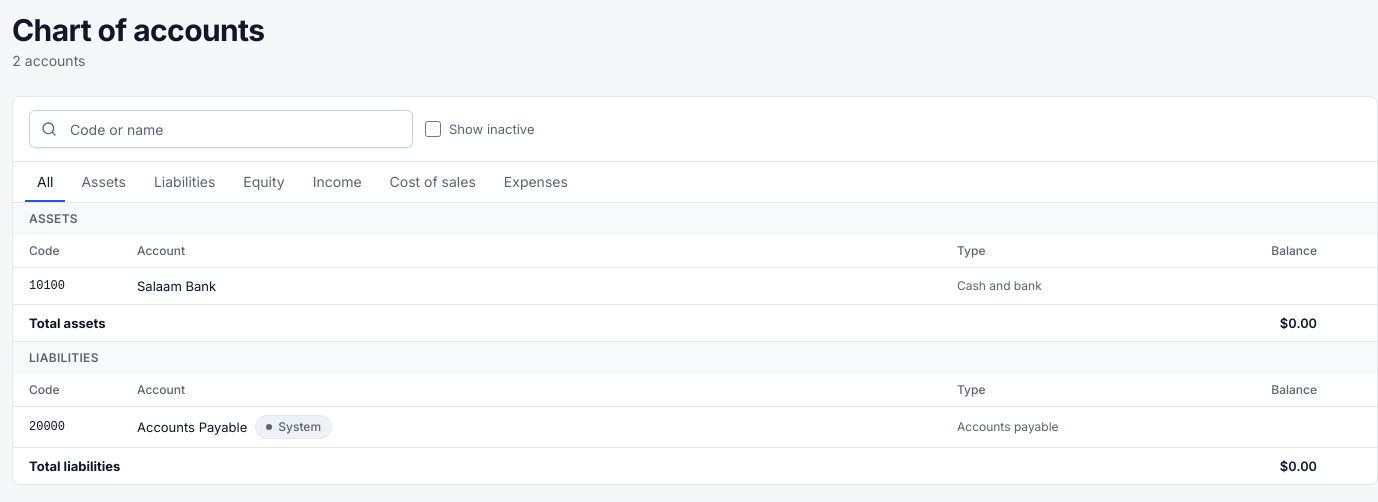
Test: ChartOfAccounts › says so when a search matches nothing, and offers a way back
In the field named "Search accounts": (221, 129) [29,110,413,148], type "zzzz"
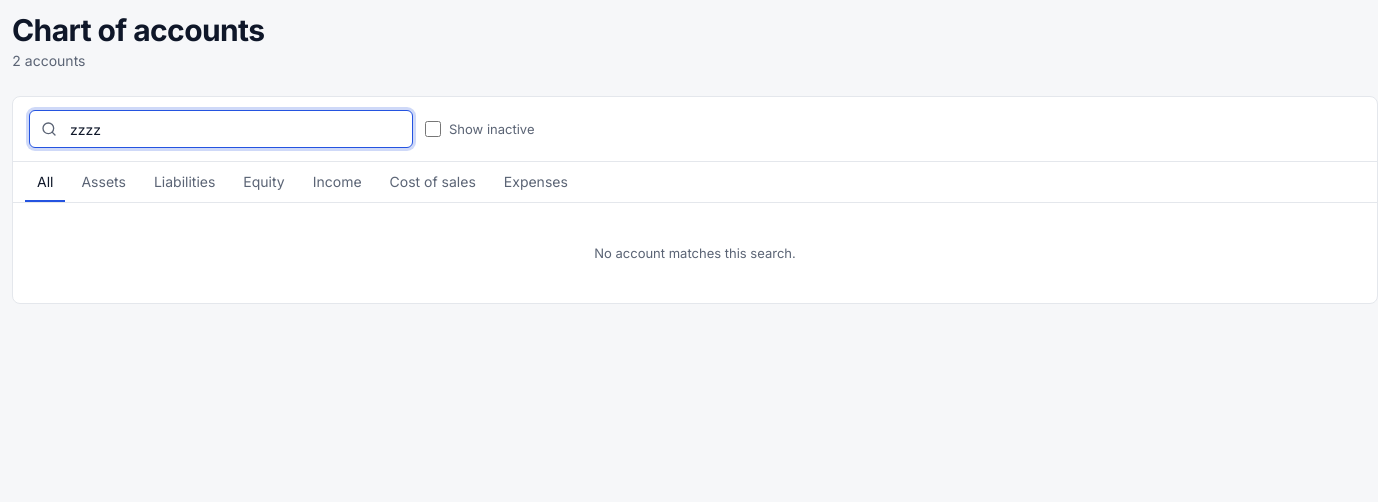
Result: the text "No account matches this search." is shown at [594,245,796,261]
Clear the field named "Search accounts": (221, 129) [29,110,413,148]
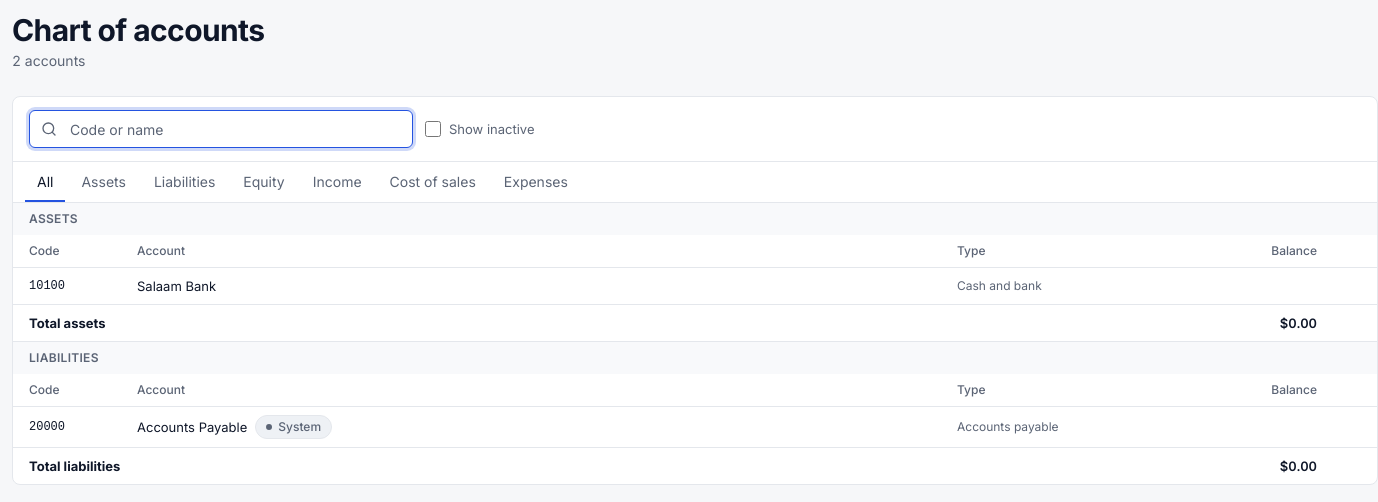
Result: the text "Salaam Bank" is shown at [137,276,216,296]
